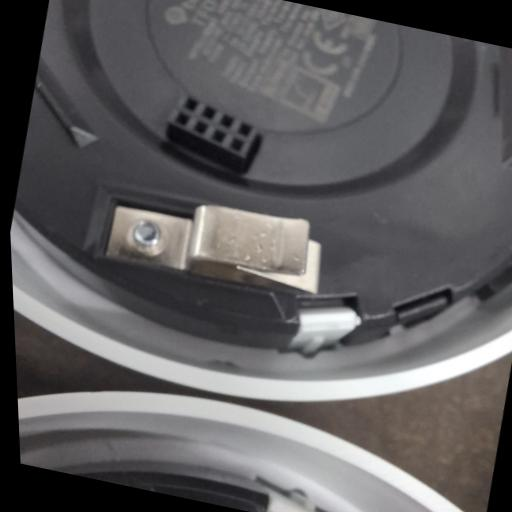yayli: (95, 178, 333, 304)
